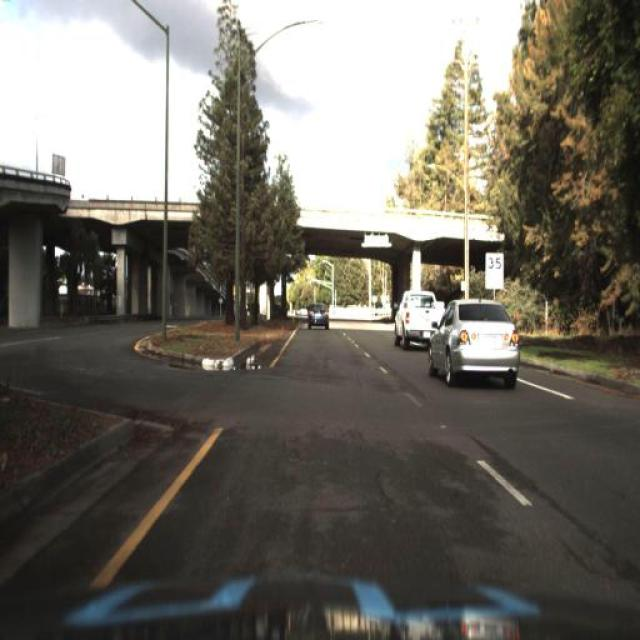car: (426, 298, 528, 392), (390, 285, 446, 354), (305, 298, 331, 332)
